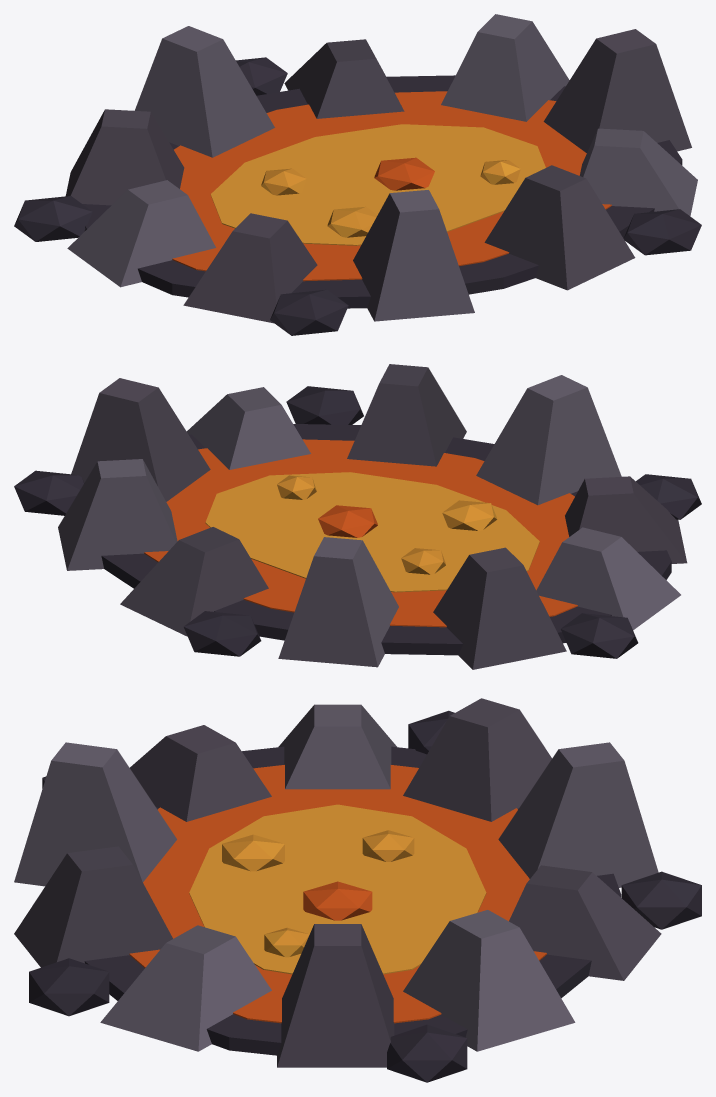
The model's file is Decor_DragonLair_LavaPool.fbx.
3 views of the same model, one above another, from view 1: azimuth 30°, elevation 25°; view 2: azimuth 150°, elevation 25°; view 3: azimuth 270°, elevation 25° (orthographic). The views are drawn at different scales.
Parts seen in each view (by area): view 1: LavaPool_Body; view 2: LavaPool_Body; view 3: LavaPool_Body.
Boxes of the visible parts, left/top/right/bottom form: LavaPool_Body: left=14, top=14, right=701, bottom=335; LavaPool_Body: left=14, top=364, right=701, bottom=669; LavaPool_Body: left=14, top=698, right=701, bottom=1082.
Bounding box in the file's own units: 23 × 3.6 × 18.93.
